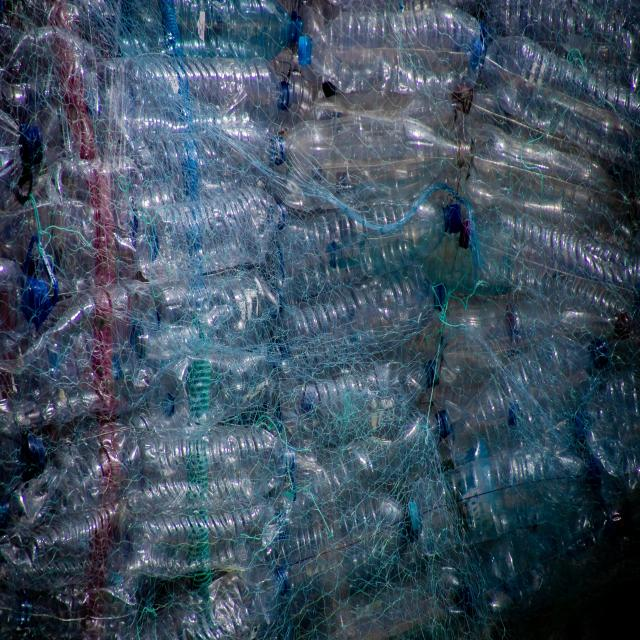plastic: (188, 95, 441, 513)
